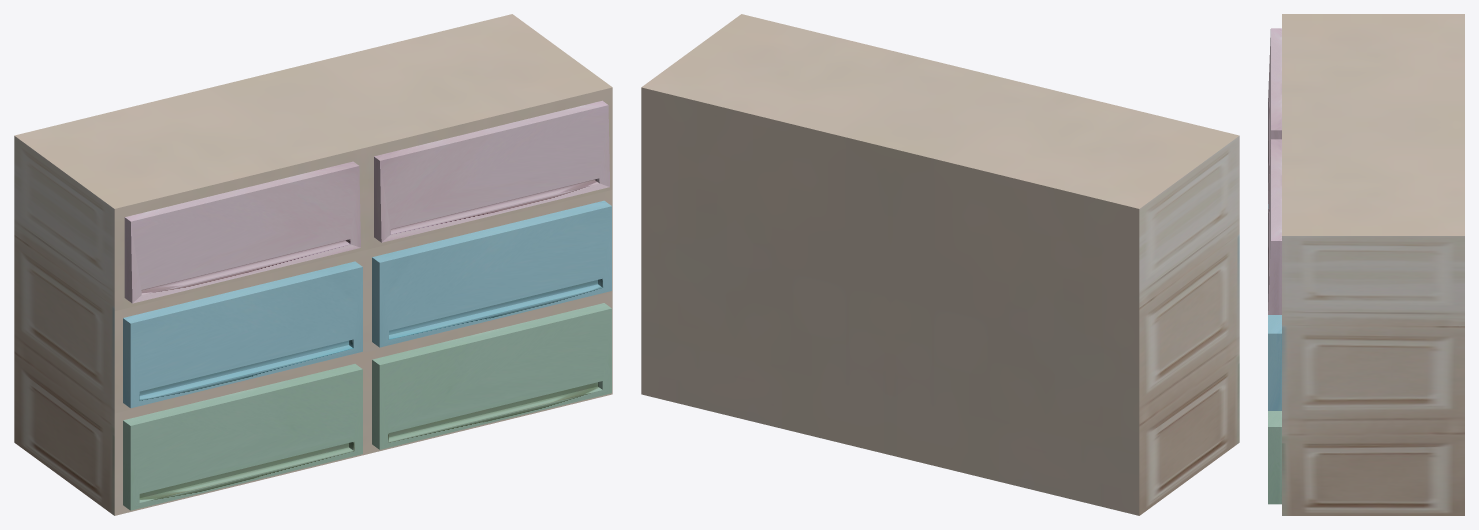
File: DresserV2.fbx
3 renders of one model, left to right at view 1: azimuth 30°, elevation 25°; view 2: azimuth 150°, elevation 25°; view 3: azimuth 270°, elevation 25°, orthographic. The views are drawn at different scales.
Visible parts, largest first — view 1: Shelf; view 2: Shelf; view 3: Shelf.
Boxes of the visible parts, left/top/right/bottom form: Shelf: left=14, top=14, right=612, bottom=515; Shelf: left=641, top=14, right=1239, bottom=515; Shelf: left=1268, top=14, right=1464, bottom=515.
Bounding box in the file's own units: 501 × 295 × 188.
